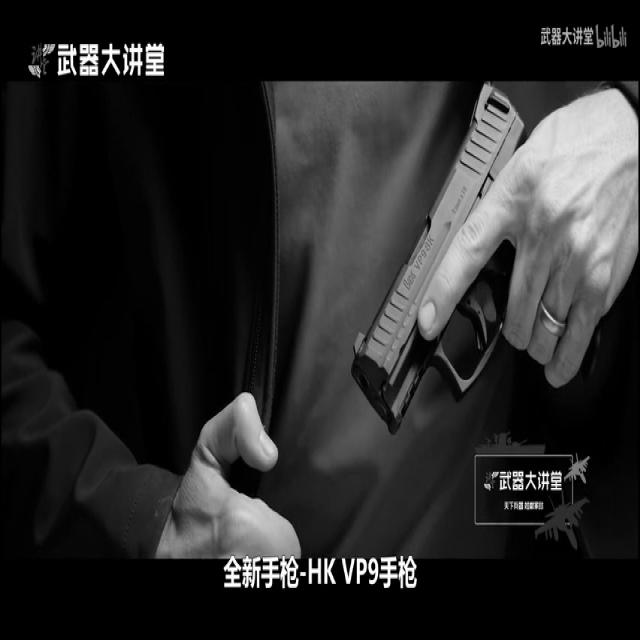Hand-Gun: (314, 41, 590, 494)
